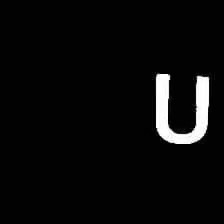LTR_U: (138, 62, 216, 153)
